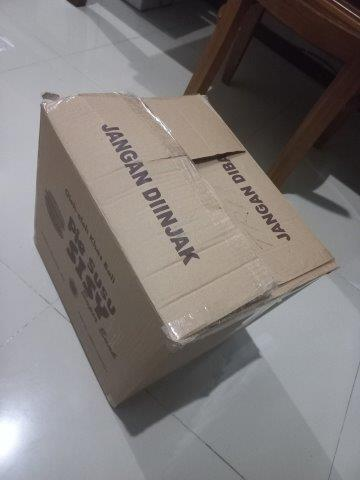kardus: (31, 92, 338, 408)
